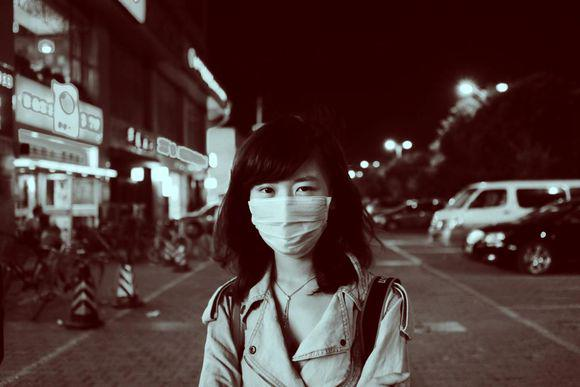OK: (249, 173, 330, 254)
